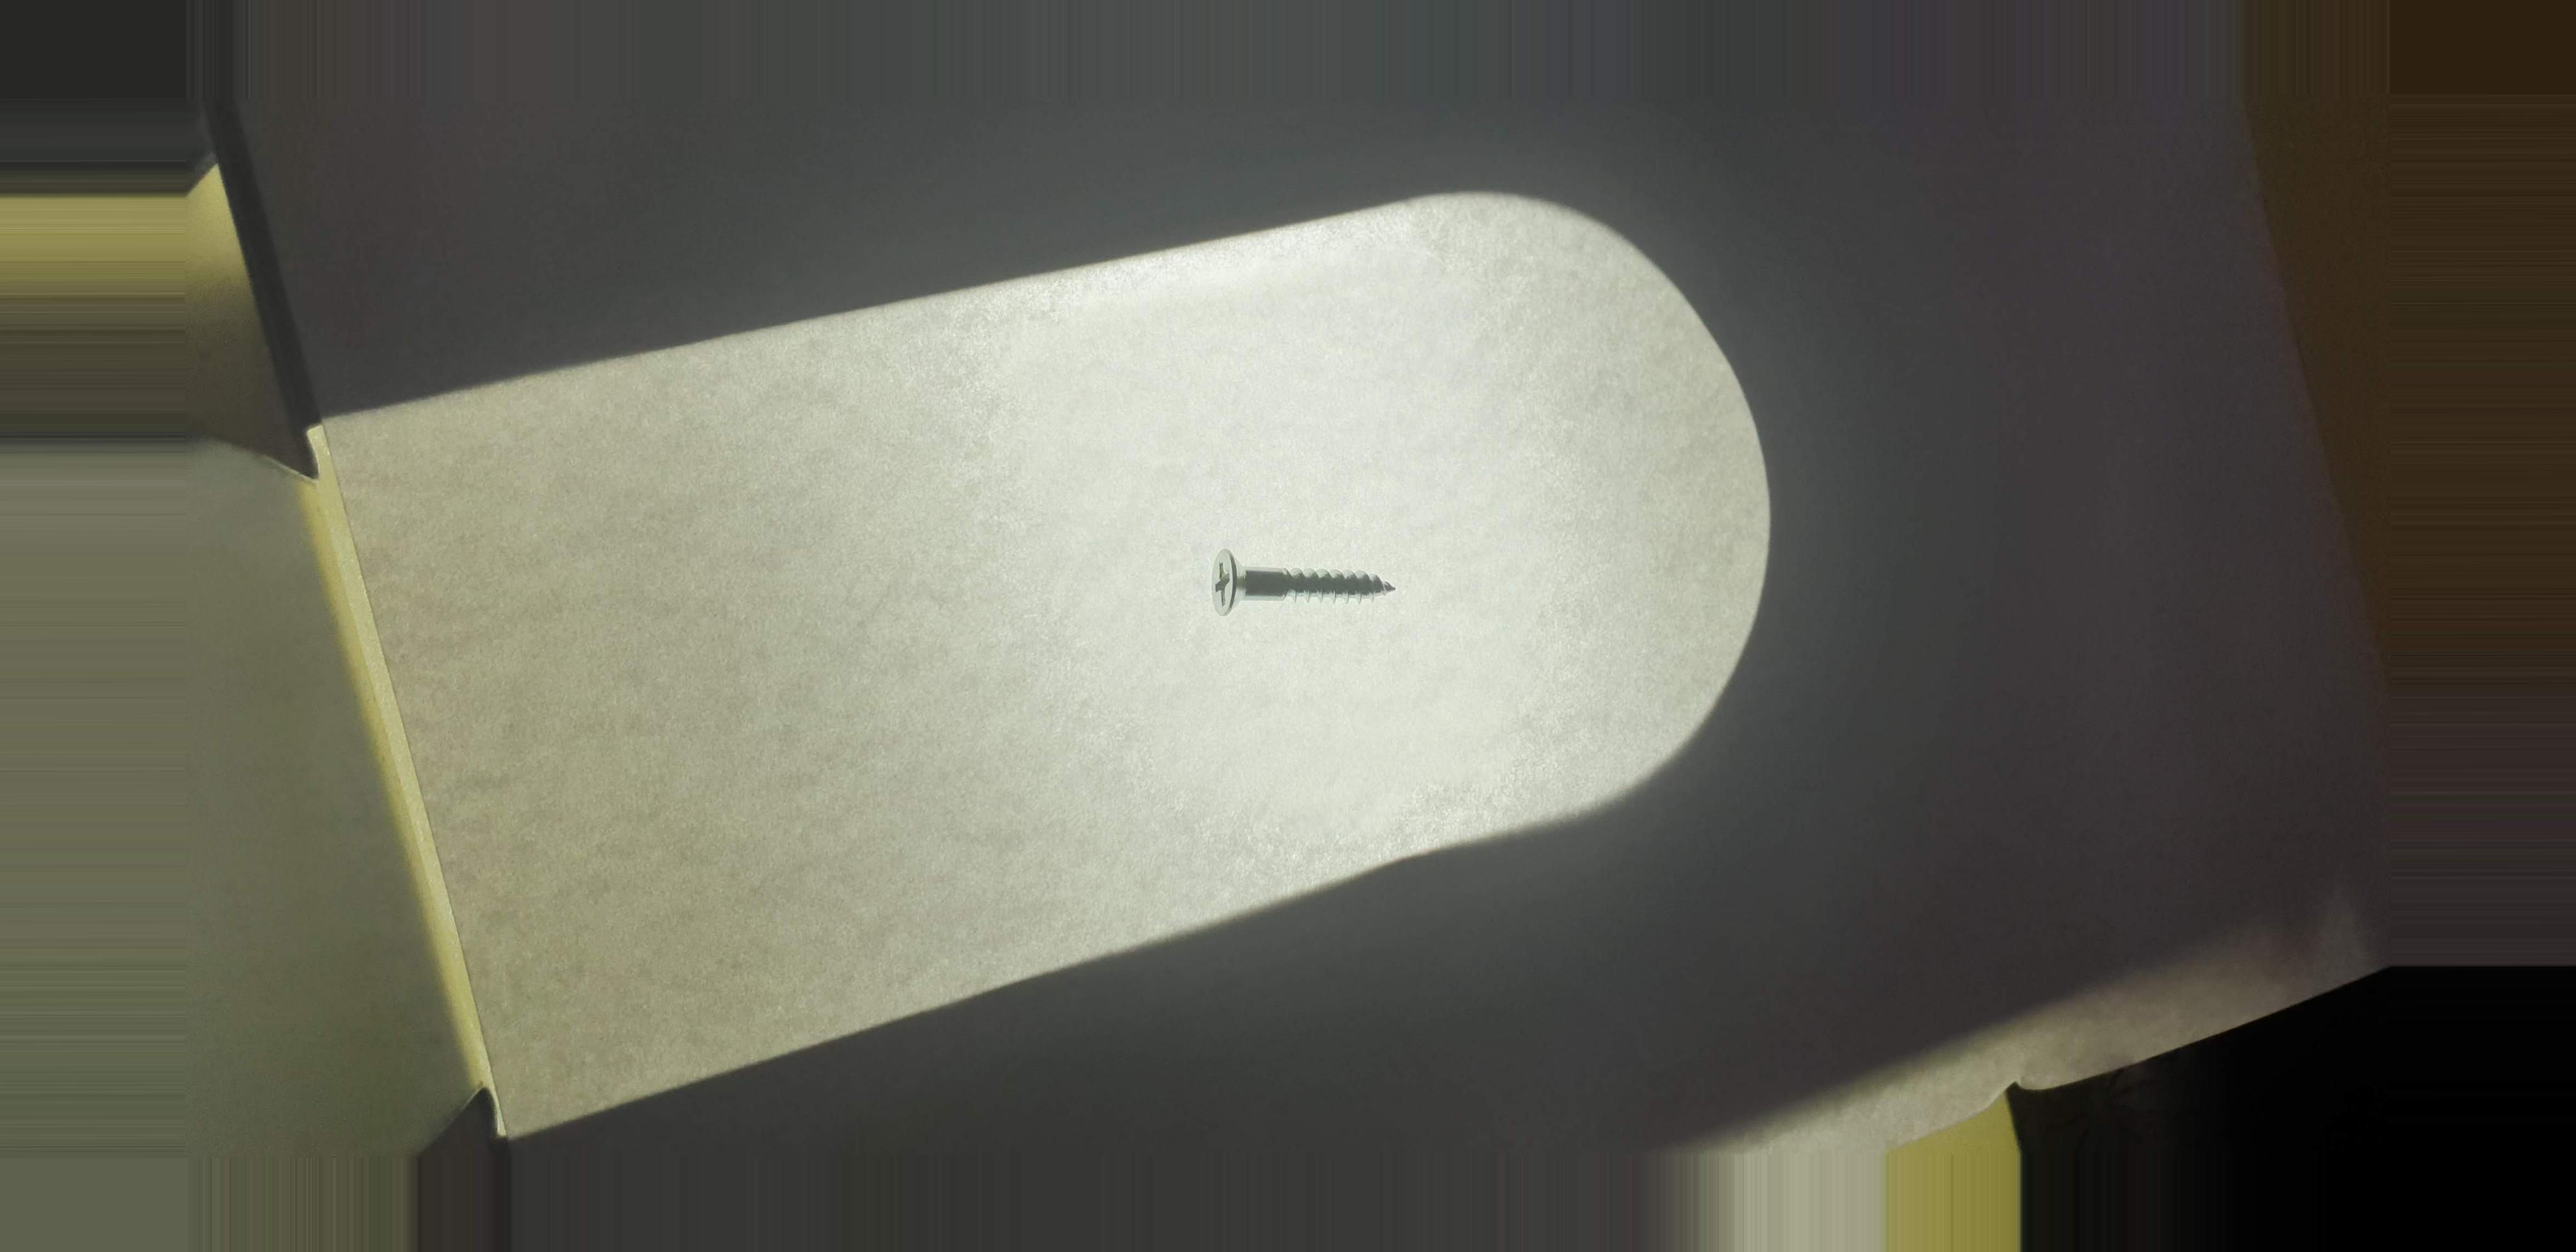S005: (1157, 534, 1436, 628)
